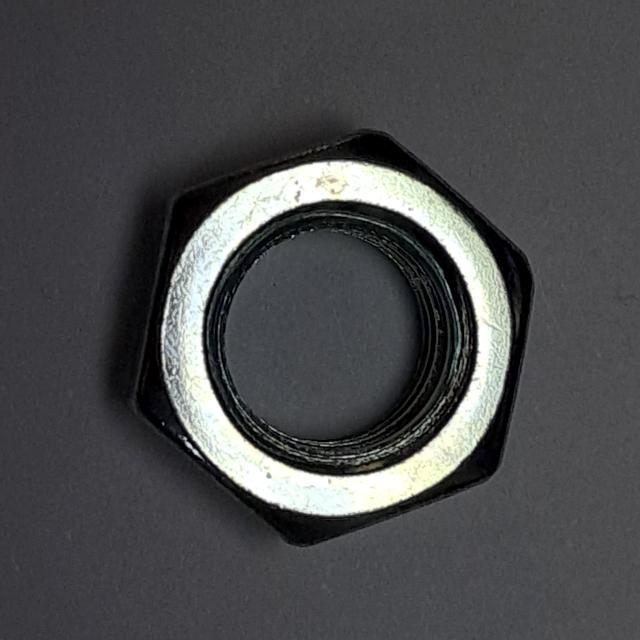Excellent: (115, 107, 552, 569)
